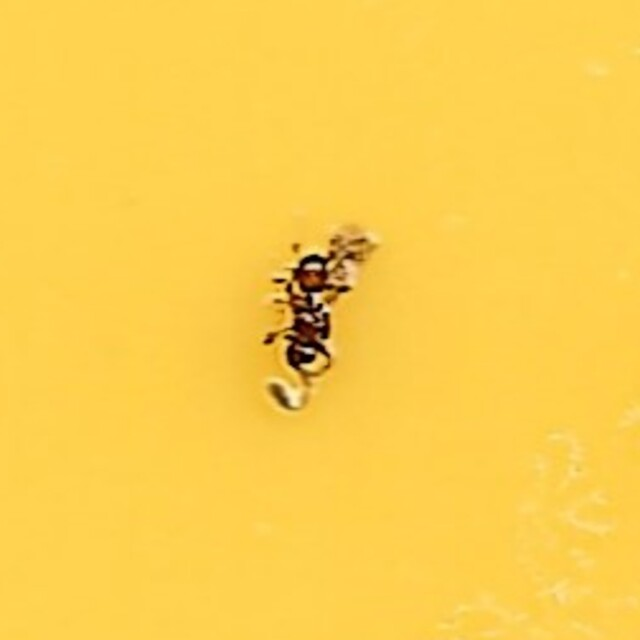Hymenoptera: (254, 221, 386, 419)
